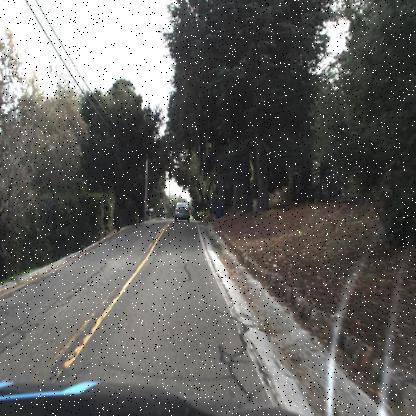car: (170, 198, 190, 228)
